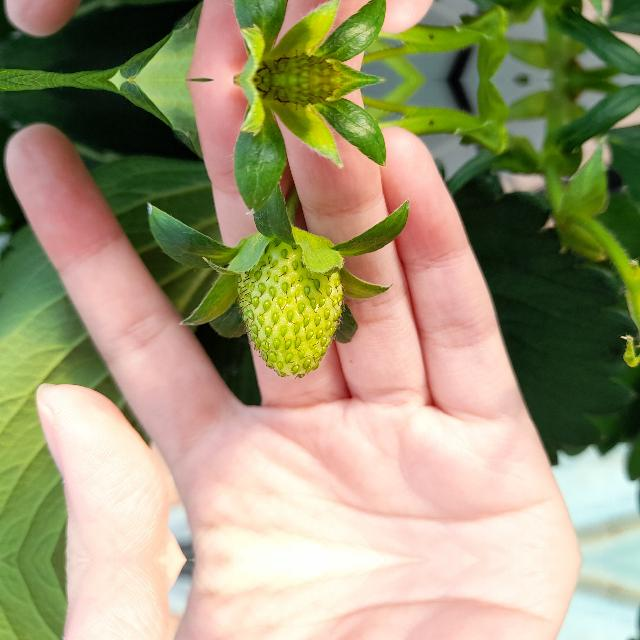Health_25: (238, 236, 342, 378)
